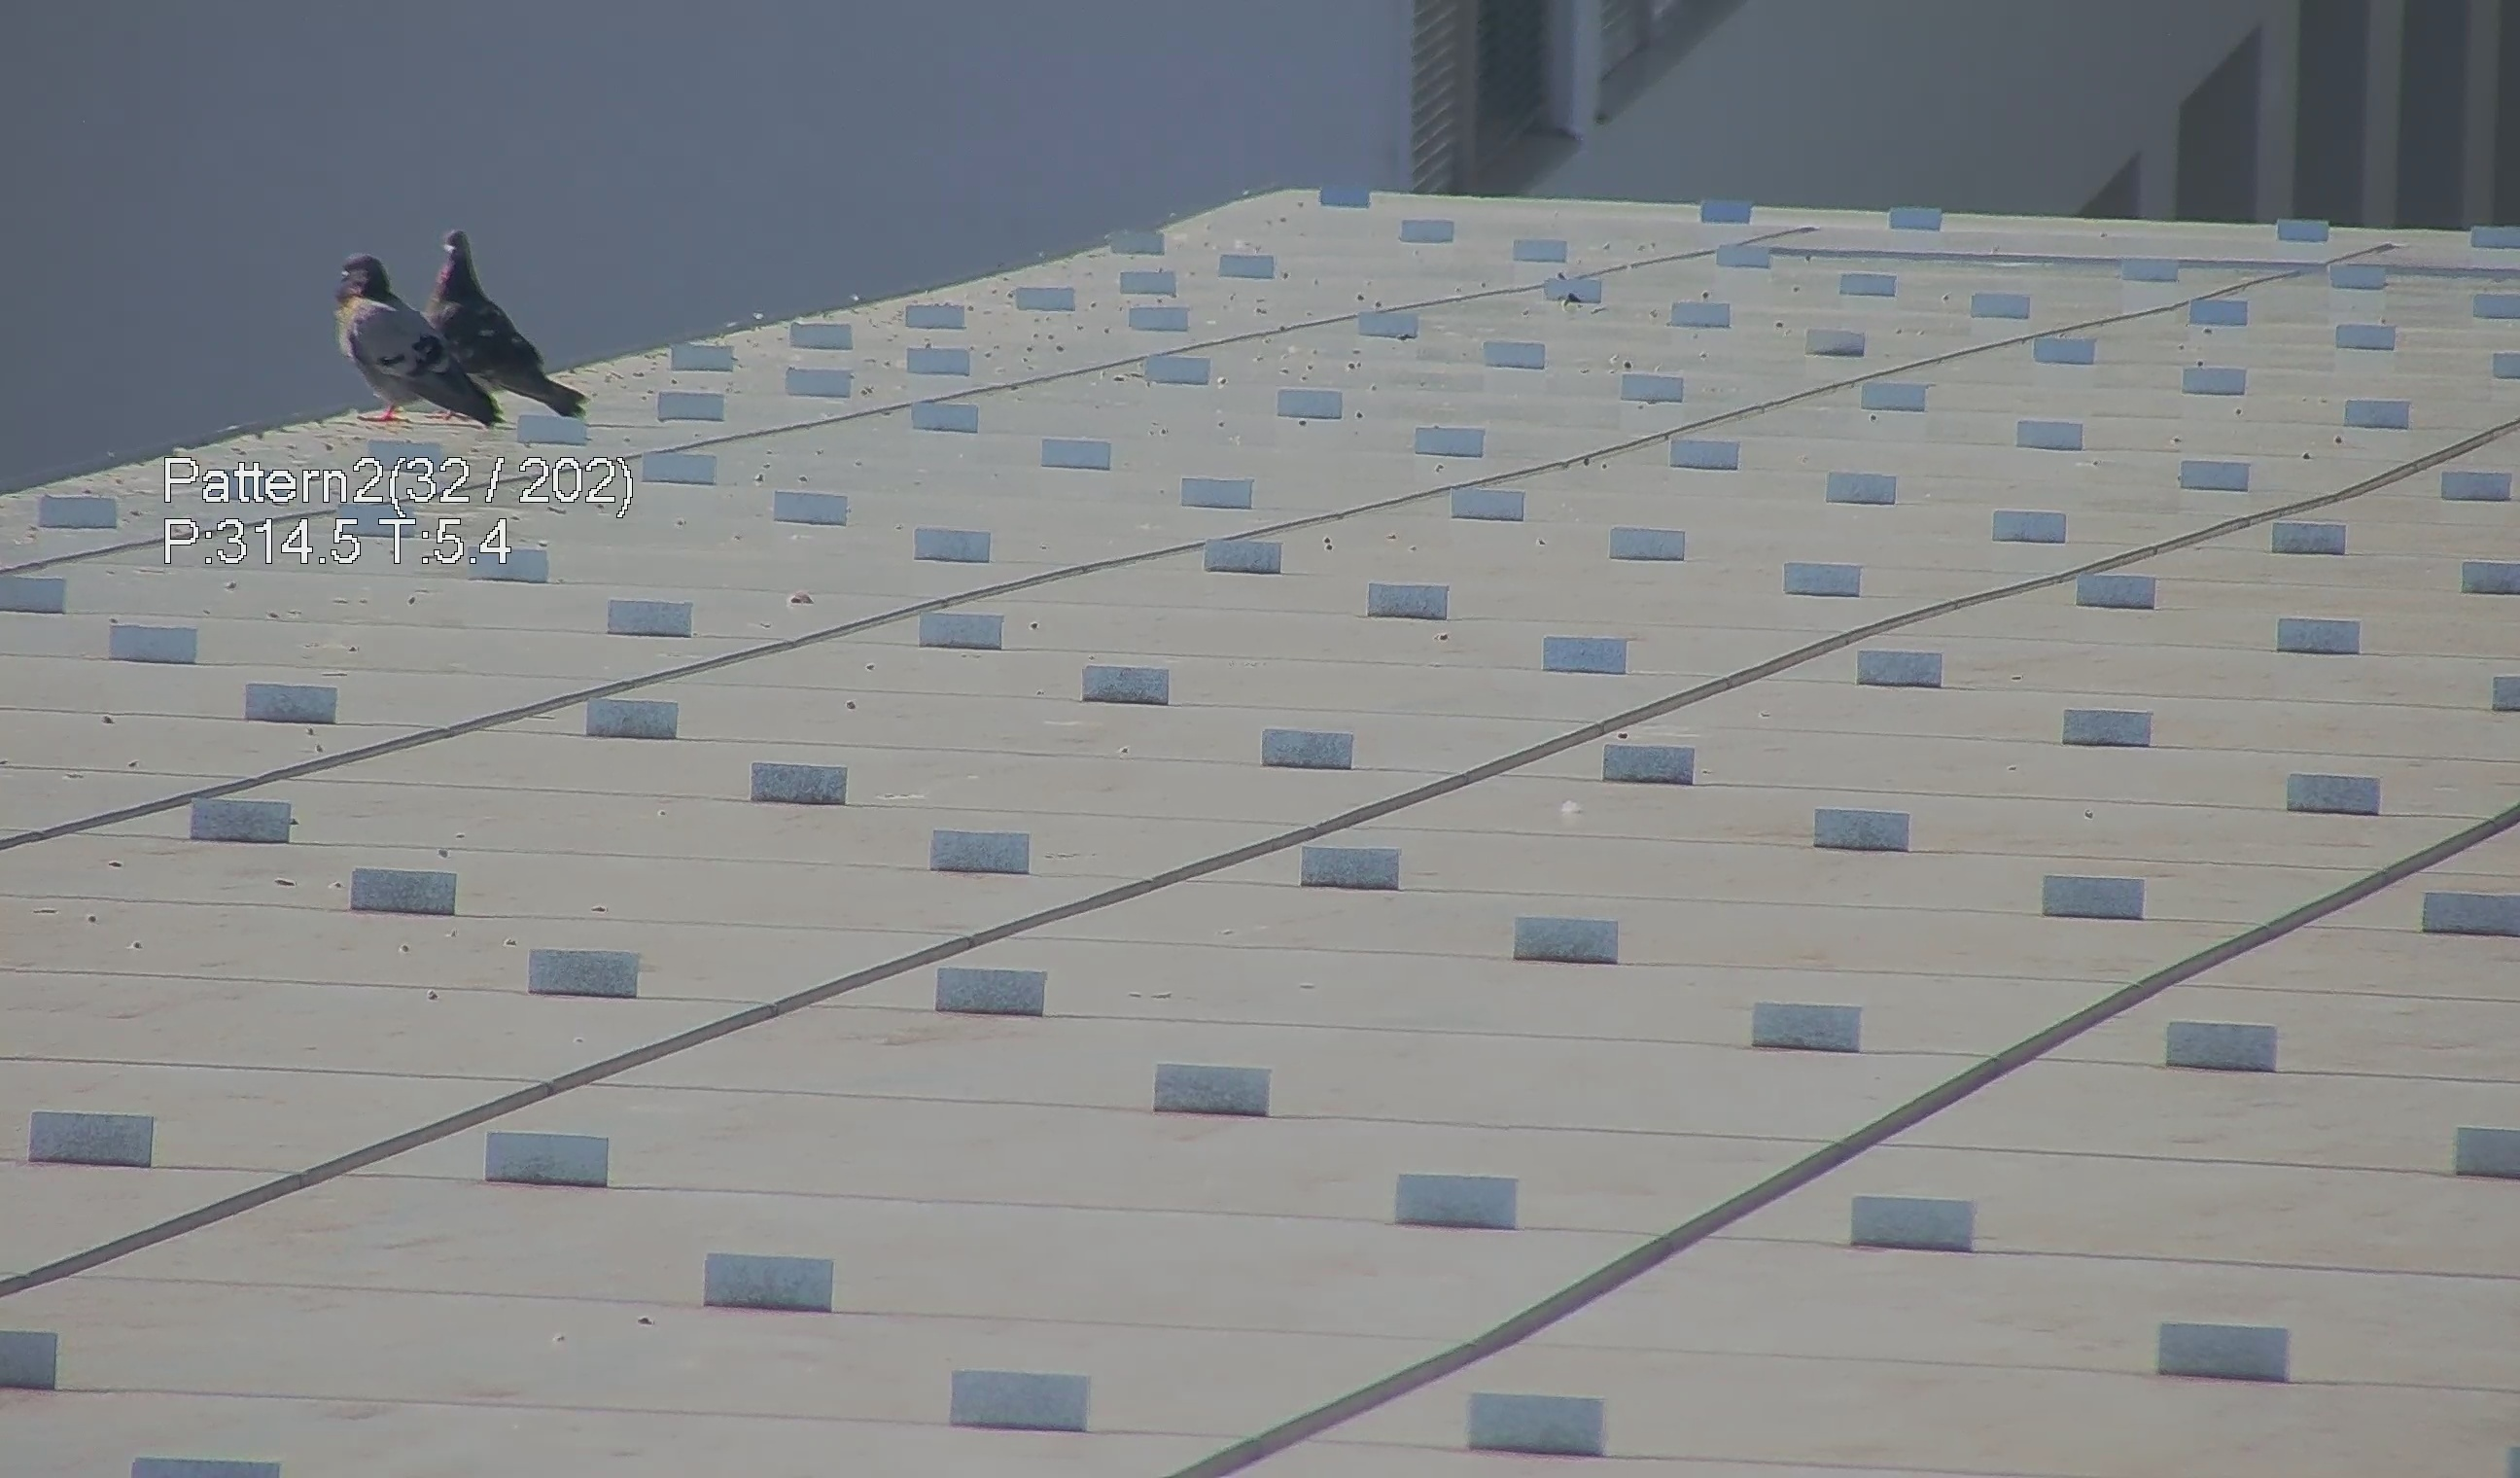Pigeon: (406, 223, 568, 433), (311, 250, 475, 426)
